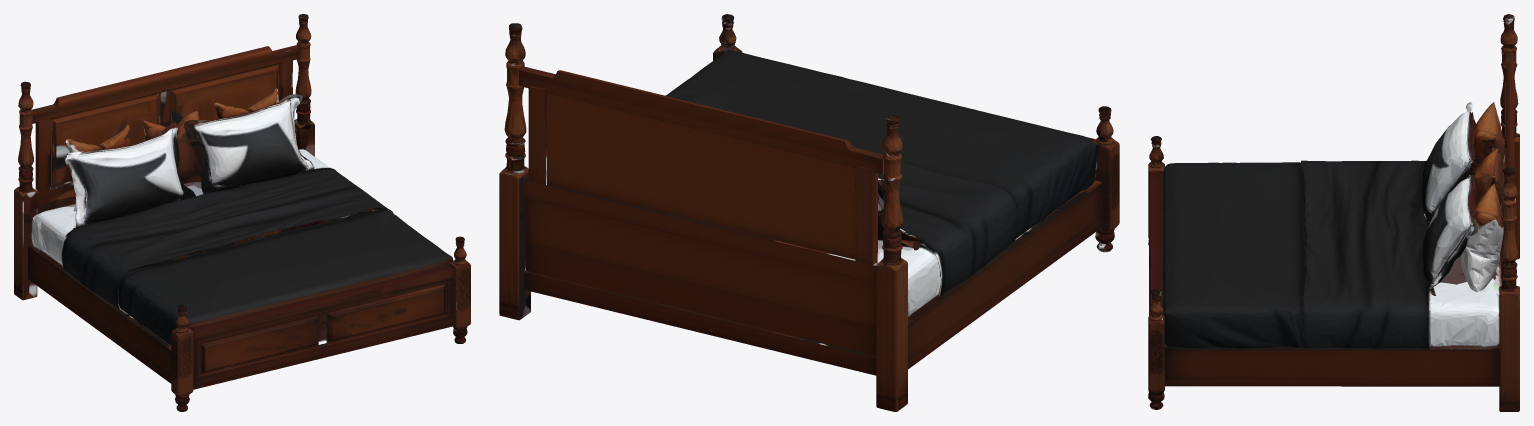
Rendered from edited_mesh.glb.
3 renders of one model, left to right at view 1: azimuth 30°, elevation 25°; view 2: azimuth 150°, elevation 25°; view 3: azimuth 270°, elevation 25°, orthographic. The views are drawn at different scales.
Parts seen in each view (by area): view 1: solid_001_wire; view 2: solid_001_wire; view 3: solid_001_wire.
Boxes of the visible parts, x1,y1,x2,y2 form: solid_001_wire: (14,14,470,411); solid_001_wire: (499,14,1119,411); solid_001_wire: (1148,14,1519,411).
Size of the model in its own units: 1.68 by 1.16 by 1.63.
1 material, 1 textured.
